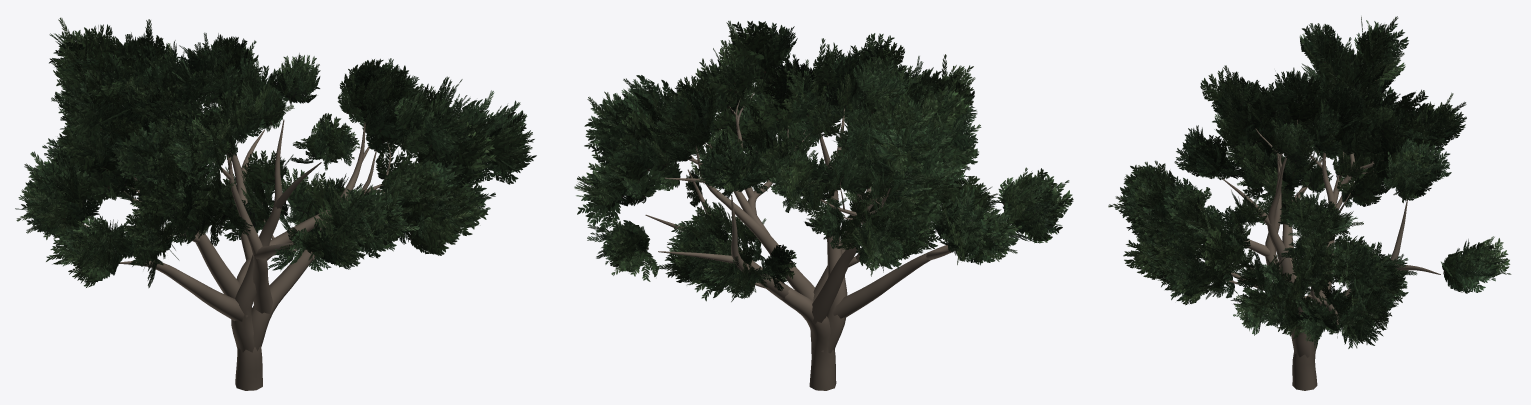
The model's file is olive_lod0.glb.
The picture shows the model from 3 angles, left to right: view 1: azimuth 30°, elevation 25°; view 2: azimuth 150°, elevation 25°; view 3: azimuth 270°, elevation 25°; orthographic projection. The views are drawn at different scales.
Parts seen in each view (by area): view 1: Tree_Foliage_Main_LOD0, Tree_Foliage_Secondary_LOD0, Tree_Trunk_LOD0; view 2: Tree_Foliage_Main_LOD0, Tree_Foliage_Secondary_LOD0, Tree_Trunk_LOD0, Tree_Branches_LOD0; view 3: Tree_Foliage_Secondary_LOD0, Tree_Foliage_Main_LOD0, Tree_Trunk_LOD0, Tree_Branches_LOD0.
Part boxes in pixels (x1=…): Tree_Foliage_Main_LOD0: x1=15, y1=17, x2=536, y2=287; Tree_Foliage_Secondary_LOD0: x1=102, y1=32, x2=434, y2=271; Tree_Trunk_LOD0: x1=83, y1=119, x2=383, y2=390; Tree_Foliage_Main_LOD0: x1=574, y1=21, x2=1073, y2=282; Tree_Foliage_Secondary_LOD0: x1=644, y1=33, x2=977, y2=301; Tree_Trunk_LOD0: x1=645, y1=92, x2=953, y2=390; Tree_Branches_LOD0: x1=665, y1=98, x2=888, y2=288; Tree_Foliage_Secondary_LOD0: x1=1161, y1=67, x2=1451, y2=348; Tree_Foliage_Main_LOD0: x1=1108, y1=16, x2=1511, y2=348; Tree_Trunk_LOD0: x1=1222, y1=151, x2=1440, y2=390; Tree_Branches_LOD0: x1=1195, y1=119, x2=1383, y2=298.
Bounding box in the file's own units: 1.43 × 1 × 1.17.
3 materials, 2 textured.
